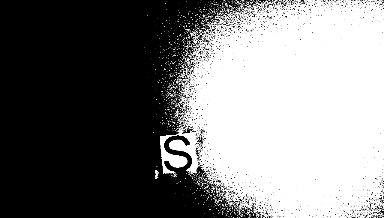S: (156, 132, 199, 172)
